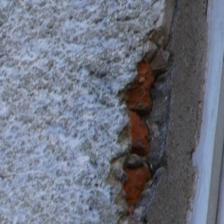Crack: (107, 28, 183, 216)
